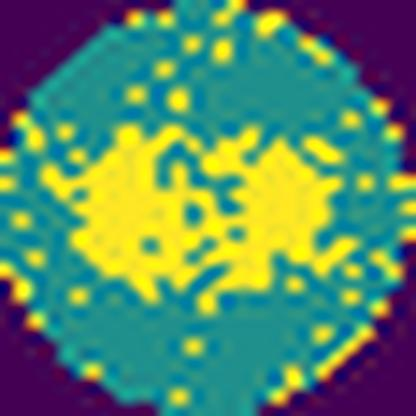Center: (43, 120, 359, 298)
